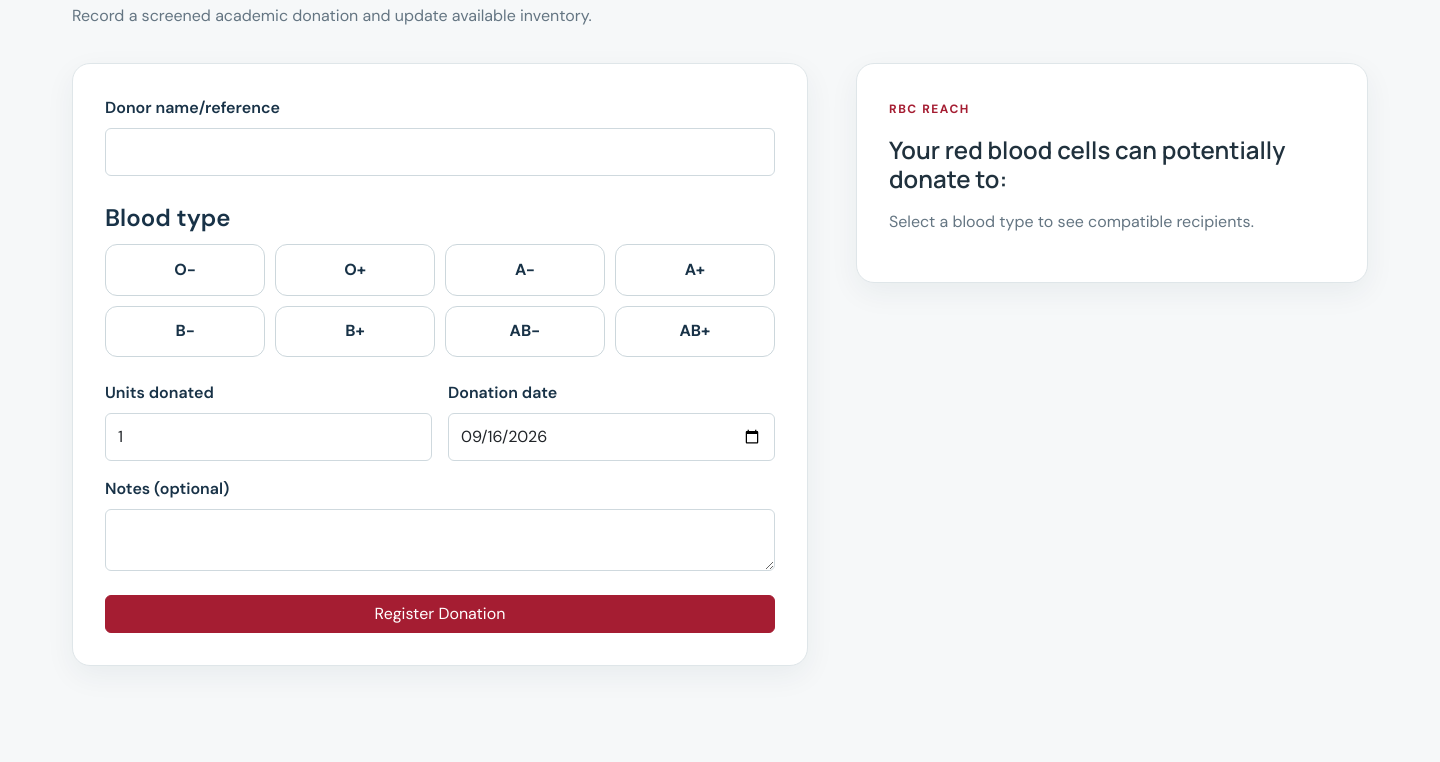
Test: donation renders, validates, submits and updates inventory
(page scrolled)
Click the button "Register Donation".
click(440, 614)  # box [105,595,775,633]
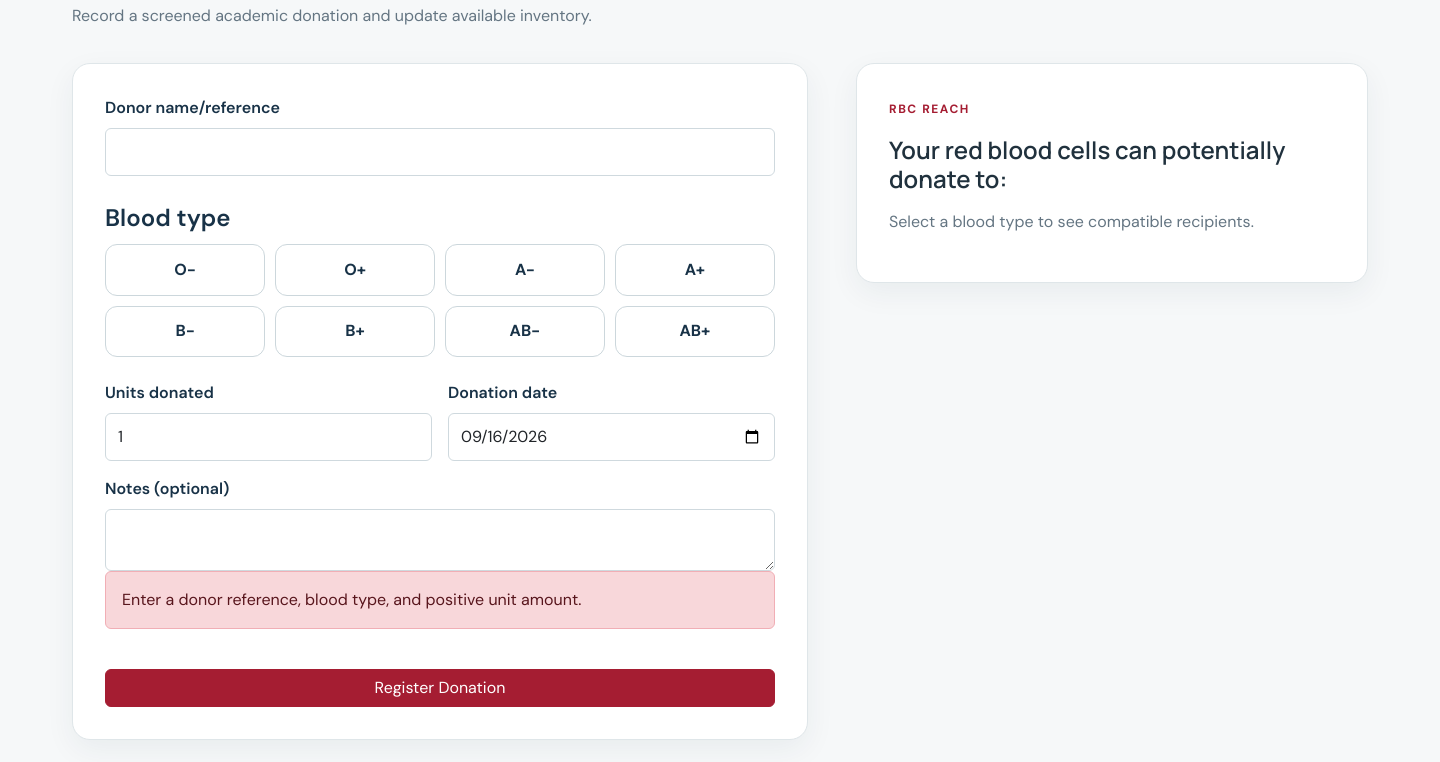
Now the message "Enter a donor reference, blood type, and positive unit amount." is shown, box [105,571,775,629]
Type "D-1" into the field labelled "Donor name/reference".
click(440, 152); type("D-1")  # box [105,128,775,176]
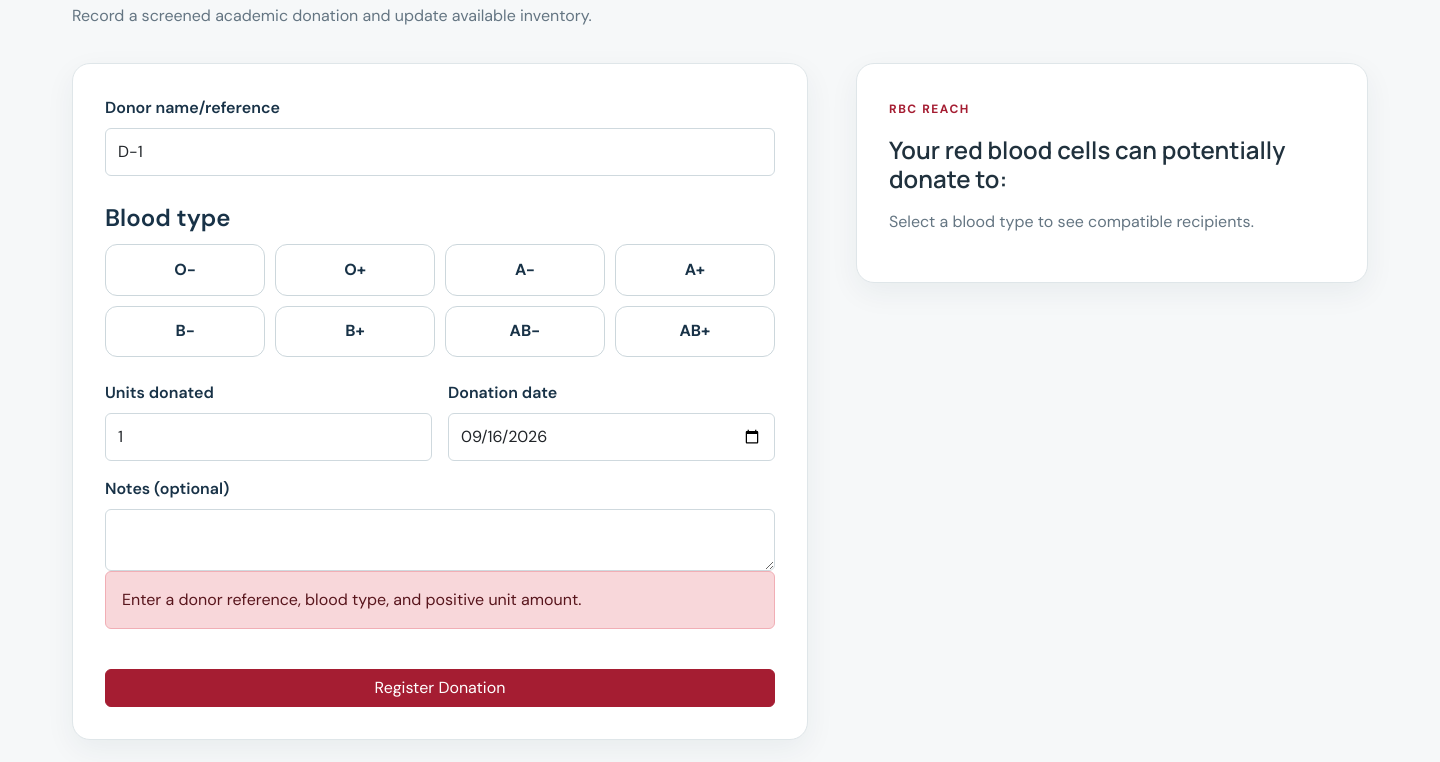
Click the text "A+".
click(695, 270)  # box [685,259,705,280]
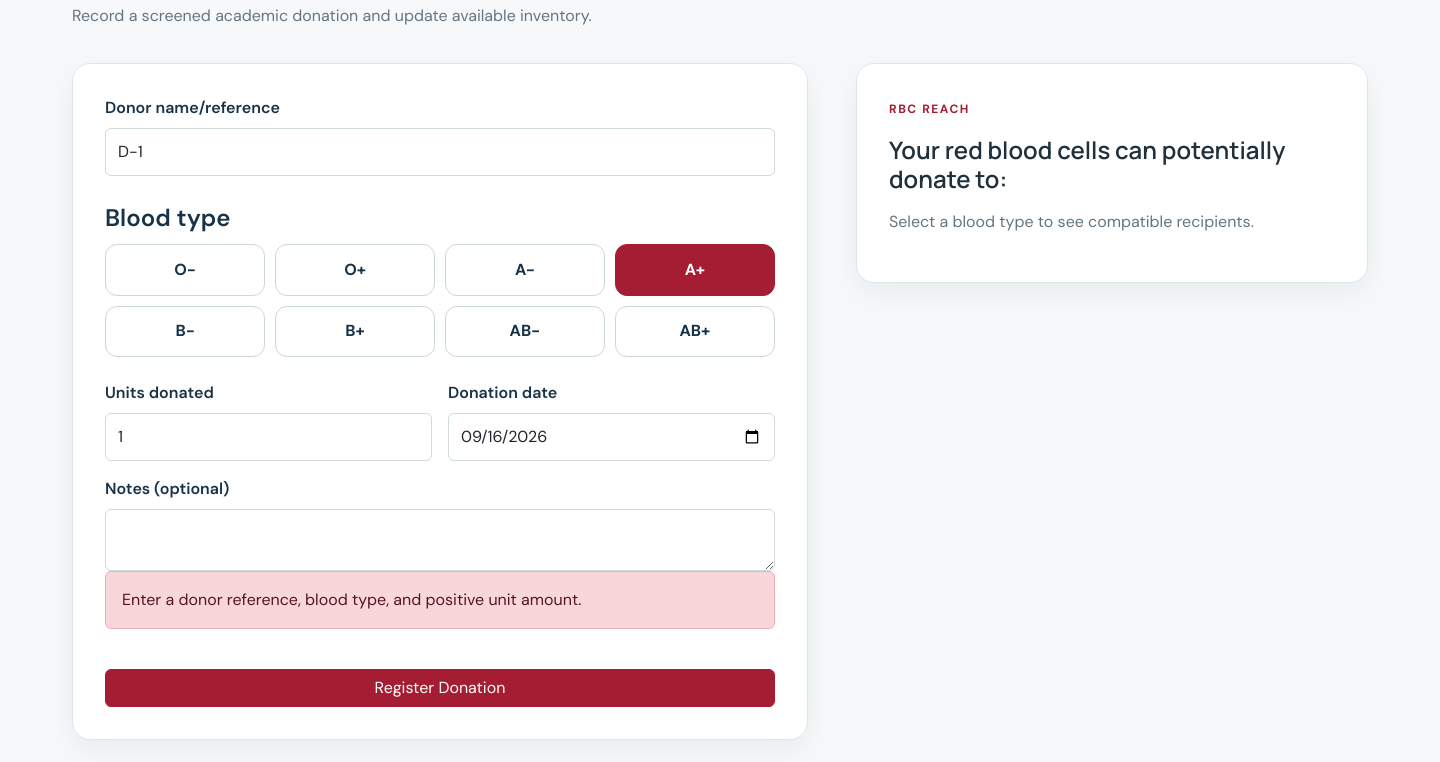
Click the button "Register Donation".
click(440, 688)  # box [105,669,775,707]
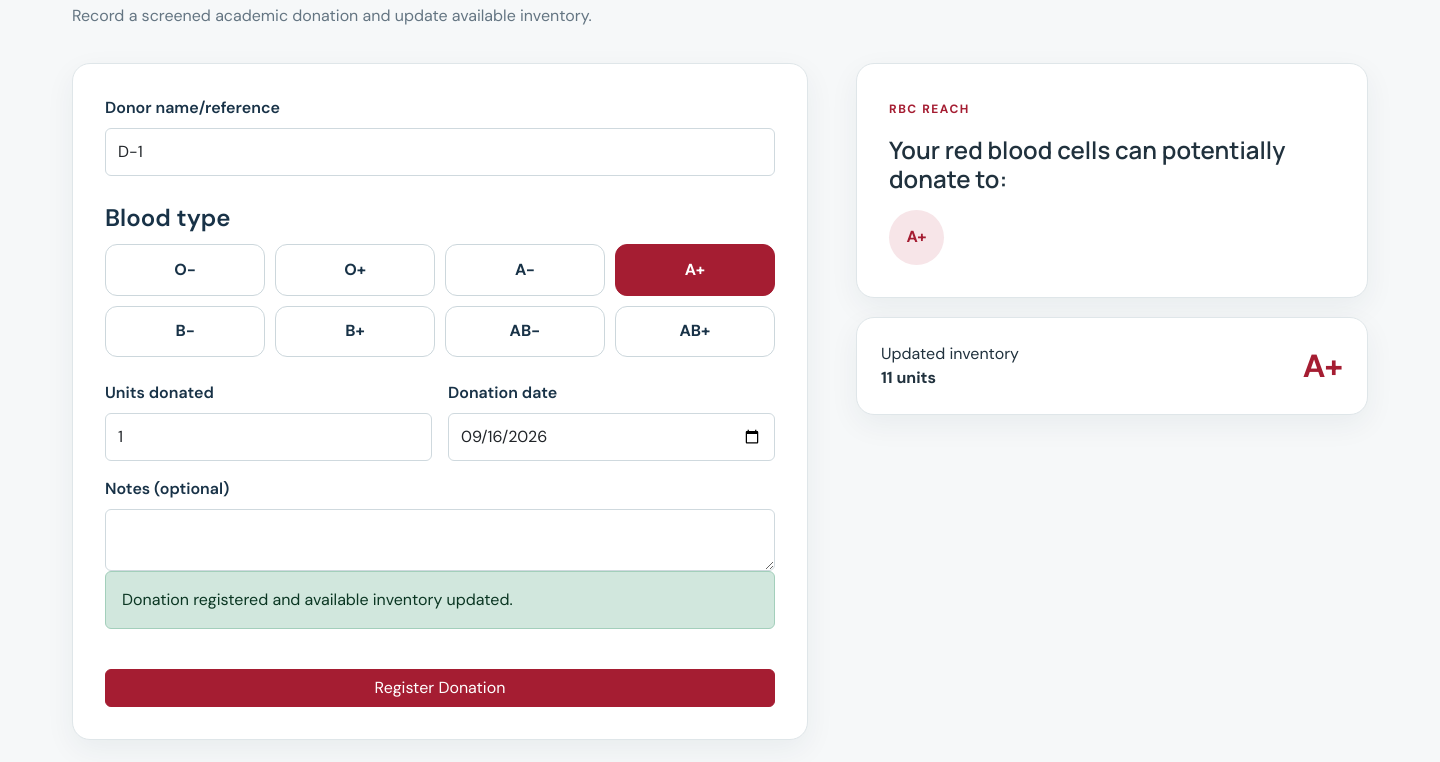
Now the text "11 units" is shown, box [881,367,936,388]
